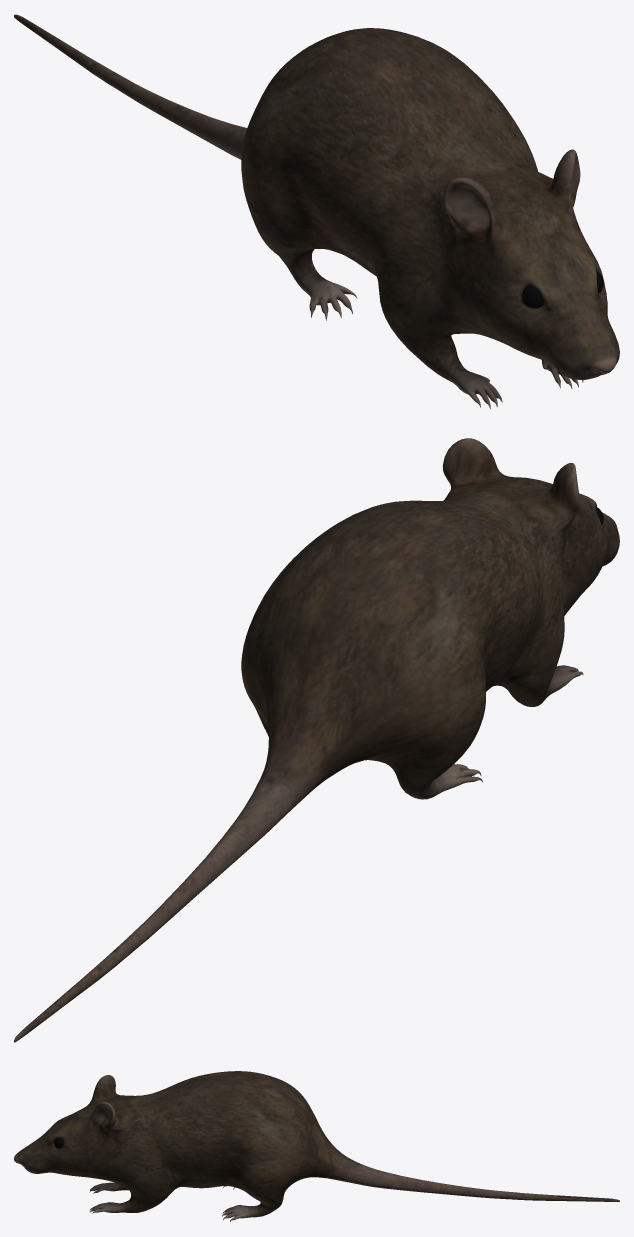
The model's file is street_rat.glb.
3 renders of one model, top to bottom at view 1: azimuth 30°, elevation 25°; view 2: azimuth 150°, elevation 25°; view 3: azimuth 270°, elevation 25°, orthographic. The views are drawn at different scales.
Visible parts, largest first — view 1: street_rat; view 2: street_rat; view 3: street_rat.
Boxes of the visible parts, <box> form: street_rat: <box>14,14,619,408</box>; street_rat: <box>14,438,619,1042</box>; street_rat: <box>14,1071,619,1221</box>.
Bounding box in the file's own units: 0.032 × 0.0339 × 0.1483.
1 material, 1 textured.
